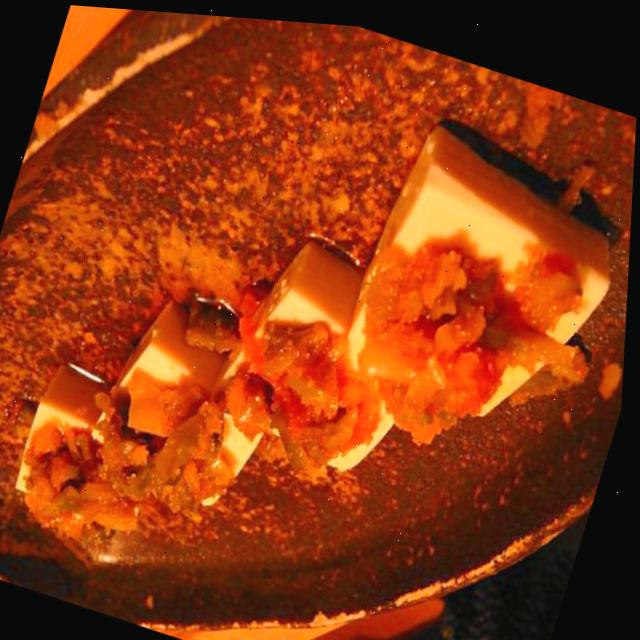豆腐料理: (6, 18, 639, 640)
